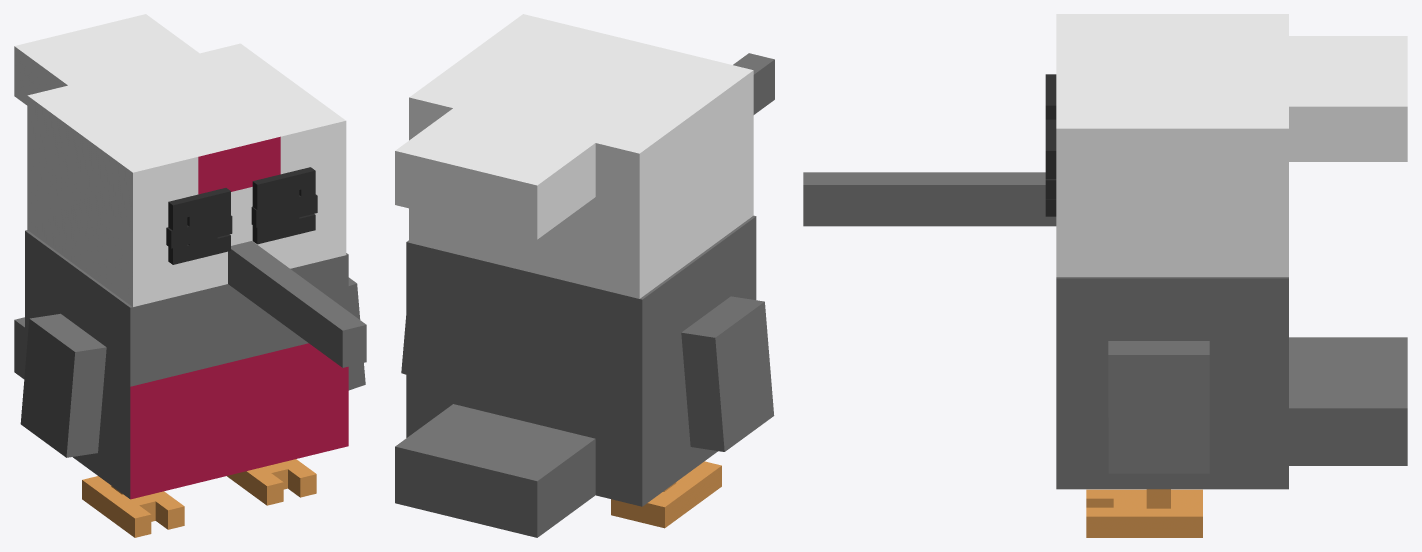
3 renders of one model, left to right at view 1: azimuth 30°, elevation 25°; view 2: azimuth 150°, elevation 25°; view 3: azimuth 270°, elevation 25°, orthographic. The views are drawn at different scales.
Parts seen in each view (by area): view 1: Ch_19_Head, Ch_19, Ch_19_Wing_L, Ch_19_Leg_L, Ch_19_Eye_01, Ch_19_Leg_R, Ch_19_Eye_03_R, Ch_19_Eye_03_L, Ch_19_Eye_02, Ch_19_Wing_R; view 2: Ch_19_Head, Ch_19, Ch_19_Wing_L, Ch_19_Leg_L; view 3: Ch_19_Head, Ch_19, Ch_19_Wing_R, Ch_19_Leg_R, Ch_19_Eye_03_R.
Part boxes in pixels (x1=…): Ch_19_Head: x1=14, y1=14, x2=366, y2=367; Ch_19: x1=14, y1=230, x2=348, y2=499; Ch_19_Wing_L: x1=20, y1=313, x2=106, y2=457; Ch_19_Leg_L: x1=82, y1=476, x2=184, y2=537; Ch_19_Eye_01: x1=187, y1=180, x2=299, y2=255; Ch_19_Leg_R: x1=227, y1=459, x2=316, y2=505; Ch_19_Eye_03_R: x1=252, y1=167, x2=315, y2=244; Ch_19_Eye_03_L: x1=168, y1=188, x2=230, y2=264; Ch_19_Eye_02: x1=166, y1=194, x2=317, y2=248; Ch_19_Wing_R: x1=348, y1=277, x2=365, y2=390; Ch_19_Head: x1=395, y1=14, x2=774, y2=298; Ch_19: x1=395, y1=215, x2=756, y2=537; Ch_19_Wing_L: x1=681, y1=296, x2=774, y2=451; Ch_19_Leg_L: x1=611, y1=461, x2=721, y2=528; Ch_19_Head: x1=803, y1=14, x2=1407, y2=276; Ch_19: x1=1056, y1=277, x2=1407, y2=489; Ch_19_Wing_R: x1=1108, y1=341, x2=1209, y2=473; Ch_19_Leg_R: x1=1086, y1=489, x2=1202, y2=537; Ch_19_Eye_03_R: x1=1045, y1=119, x2=1056, y2=216.
Size of the model in its own units: 8.62 by 10.43 by 13.67.
